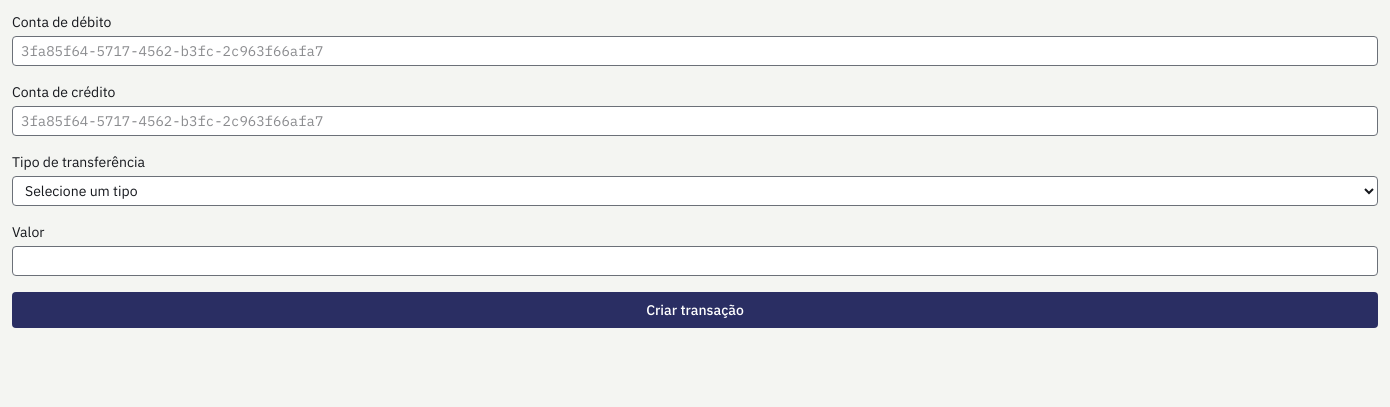
Scenario: CreateTransactionForm › shows a field-level hint explaining the GUID format when an account id is invalid
This screenshot has width=1390, height=407.
In the field labelled "Conta de débito": (695, 51) [12, 36, 1378, 66], type "not-a-uuid"
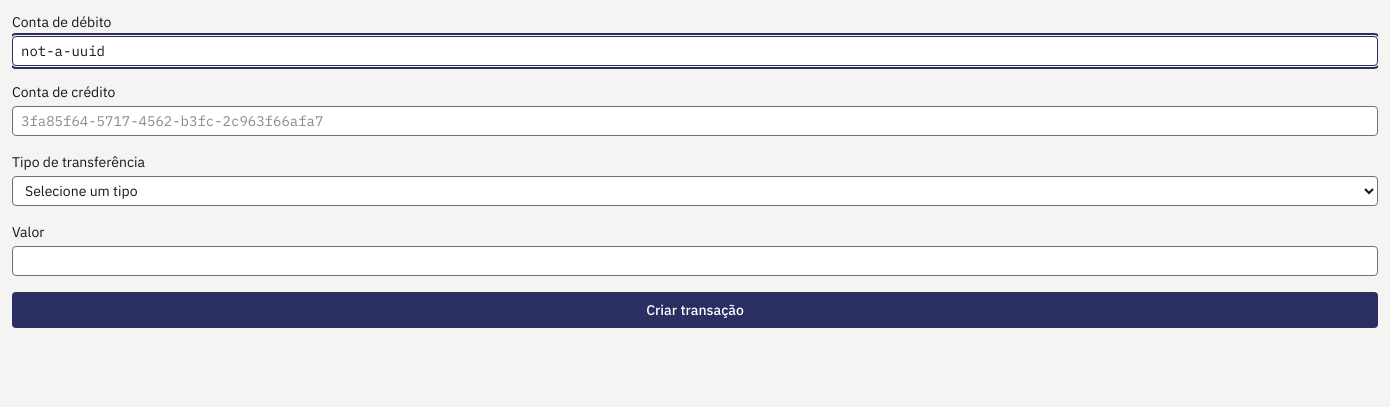
In the field labelled "Conta de crédito": (695, 121) [12, 106, 1378, 136], type "3fa85f64-5717-4562-b3fc-2c963f66afa8"
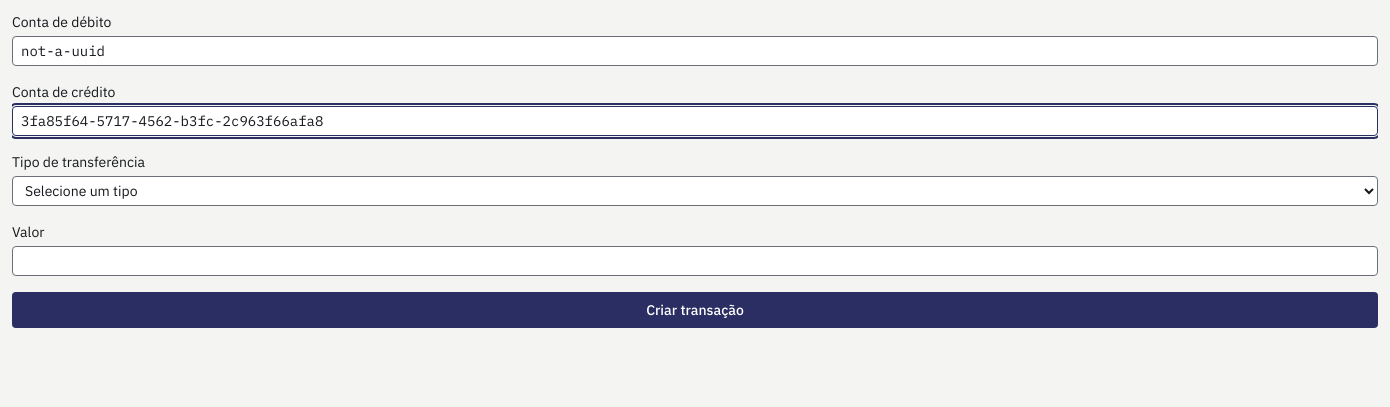
Select "Pagamento" in the dropdown labelled "Tipo de transferência": (695, 191) [12, 176, 1378, 206]
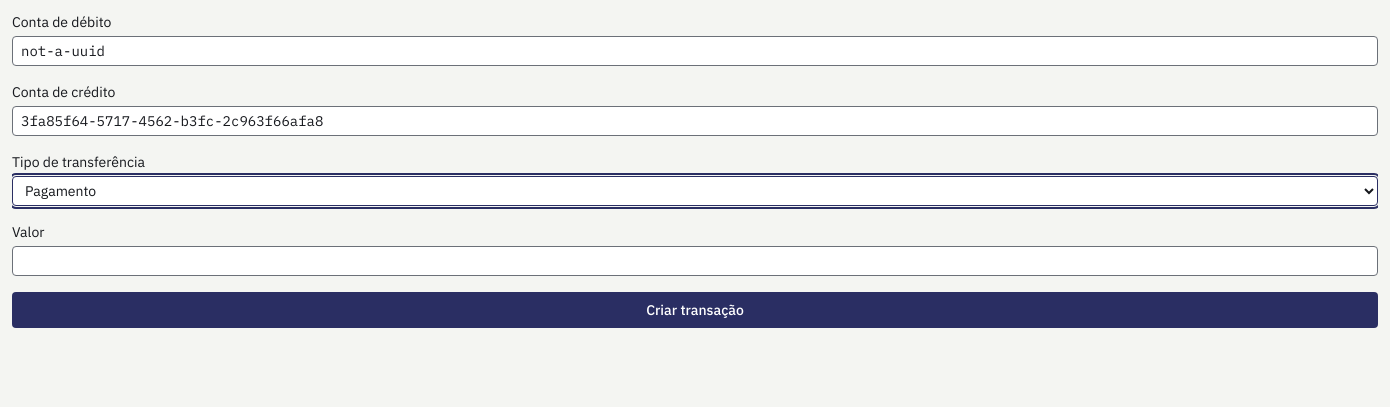
In the number field labelled "Valor": (695, 261) [12, 246, 1378, 276], type "120"
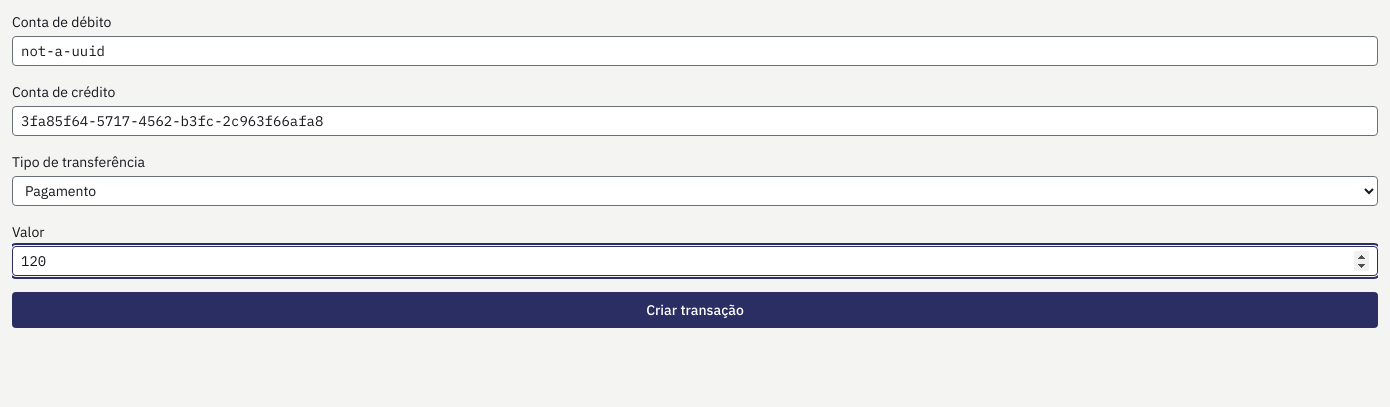
Click the button "Criar transação": (695, 310) [12, 292, 1378, 328]
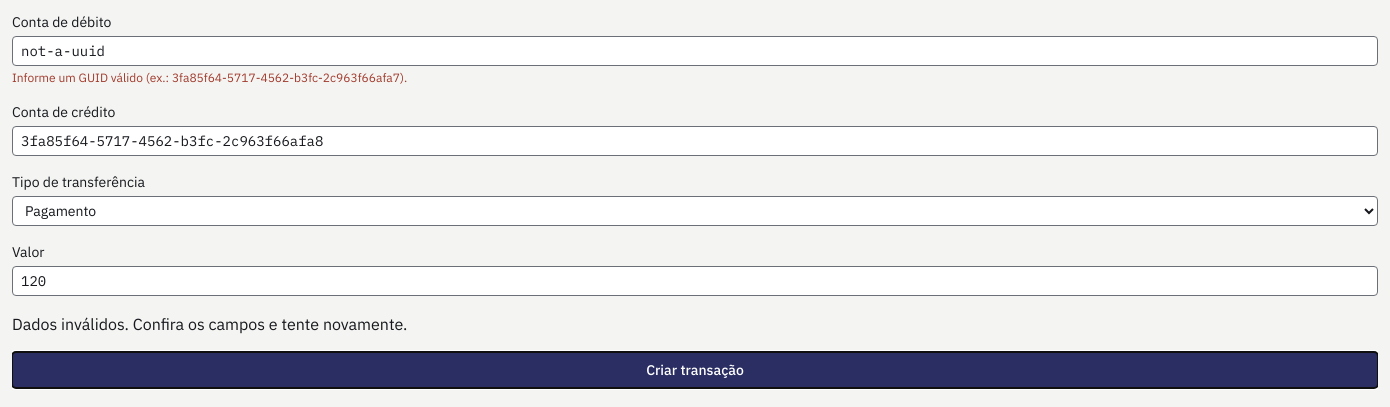
expect the text "Informe um GUID válido" is shown: met, box [12, 70, 407, 85]
